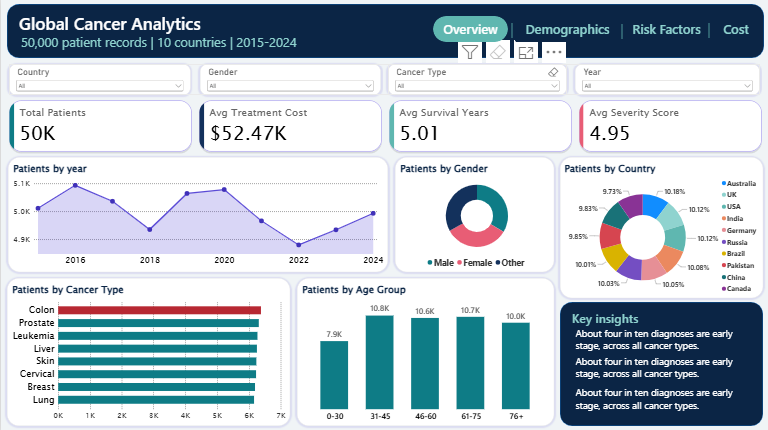

The dashboard page shown, as its layout file describes it:
{"tool":"powerbi","page":{"name":"Overview","canvas":[1920,1080],"ordinal":0},"visuals":[{"type":"slicer","fields":{"Values":["CancerData.Country_Region"]},"box":[20,160,454.4,77.5],"z":0,"group":"g2"},{"type":"cardVisual","fields":{"Data":["_Measures.Total Patients","_Measures.Avg Treatment Cost","_Measures.Avg Survival Years","_Measures.Avg Severity Score"]},"box":[16,245,1893,140],"z":0},{"type":"shape","box":[15,10,1892.5,135],"z":1000,"group":"g1"},{"type":"slicer","fields":{"Values":["CancerData.Gender"]},"box":[496.9,160,451.9,77.5],"z":1000,"group":"g2"},{"type":"areaChart","title":"Patients by year","fields":{"Category":["CancerData.Year"],"Y":["_Measures.Total Patients"]},"box":[17.5,392.5,950,287.5],"z":1000},{"type":"slicer","fields":{"Values":["CancerData.Cancer_Type"]},"box":[968.7,160,446.9,77.5],"z":2000,"group":"g2"},{"type":"donutChart","title":"Patients by Country","fields":{"Category":["CancerData.Country_Region"],"Y":["_Measures.Total Patients"]},"box":[1397.5,392.5,507.5,352.5],"z":2000},{"type":"slicer","fields":{"Values":["CancerData.Year"]},"box":[1435.6,160,461.9,77.5],"z":3000,"group":"g2"},{"type":"clusteredColumnChart","title":"Patients by Age Group","fields":{"Category":["CancerData.Age Group"],"Y":["_Measures.Total Patients"]},"box":[740,695,642.5,370],"z":3000},{"type":"donutChart","title":"Patients by Gender","fields":{"Category":["CancerData.Gender"],"Y":["_Measures.Total Patients"]},"box":[985,392.5,397.5,287.5],"z":4000},{"type":"clusteredBarChart","title":"Patients by Cancer Type","fields":{"Category":["CancerData.Cancer_Type"],"Y":["_Measures.Total Patients"]},"box":[15,695,707.5,370],"z":5000},{"type":"group","id":"g1","title":"Group 1","box":[15,10,1892.5,135],"z":6000},{"type":"group","id":"g2","title":"Group 3","box":[20,160,1877.5,77.5],"z":7000},{"type":"shape","box":[32.6,71.4,723.8,63.8],"z":7001,"group":"g1"},{"type":"actionButton","box":[1285,40,262.5,65],"z":8000},{"type":"actionButton","box":[1080,40,187.5,65],"z":9000},{"type":"actionButton","box":[1565,40,197.5,65],"z":10000},{"type":"actionButton","box":[1777.5,40,120,65],"z":11000},{"type":"shape","box":[1220,57.5,115,37.5],"z":12000},{"type":"shape","box":[1712.5,57.5,115,37.5],"z":13000},{"type":"shape","box":[1495,60,115,37.5],"z":14000},{"type":"shape","box":[1397.5,755,507.5,310],"z":15000},{"type":"shape","box":[1400,812.5,507.5,70],"z":16000},{"type":"shape","box":[1400,882.5,507.5,70],"z":17000},{"type":"shape","box":[1400,952.5,507.5,85],"z":18000}]}

Visuals, with their boxes in screenshot pixels (x1, y1, x2, y2), scaled from the page's 1920x1080 canvas onto the 768x430 screenshot:
slicer - CancerData.Country_Region: (x1=8, y1=64, x2=190, y2=95)
cardVisual - _Measures.Total Patients x _Measures.Avg Treatment Cost: (x1=6, y1=98, x2=764, y2=153)
shape: (x1=6, y1=4, x2=763, y2=58)
slicer - CancerData.Gender: (x1=199, y1=64, x2=380, y2=95)
"Patients by year" areaChart: (x1=7, y1=156, x2=387, y2=271)
slicer - CancerData.Cancer_Type: (x1=387, y1=64, x2=566, y2=95)
"Patients by Country" donutChart: (x1=559, y1=156, x2=762, y2=297)
slicer - CancerData.Year: (x1=574, y1=64, x2=759, y2=95)
"Patients by Age Group" clusteredColumnChart: (x1=296, y1=277, x2=553, y2=424)
"Patients by Gender" donutChart: (x1=394, y1=156, x2=553, y2=271)
"Patients by Cancer Type" clusteredBarChart: (x1=6, y1=277, x2=289, y2=424)
"Group 1" group: (x1=6, y1=4, x2=763, y2=58)
"Group 3" group: (x1=8, y1=64, x2=759, y2=95)
shape: (x1=13, y1=28, x2=303, y2=54)
actionButton: (x1=514, y1=16, x2=619, y2=42)
actionButton: (x1=432, y1=16, x2=507, y2=42)
actionButton: (x1=626, y1=16, x2=705, y2=42)
actionButton: (x1=711, y1=16, x2=759, y2=42)
shape: (x1=488, y1=23, x2=534, y2=38)
shape: (x1=685, y1=23, x2=731, y2=38)
shape: (x1=598, y1=24, x2=644, y2=39)
shape: (x1=559, y1=301, x2=762, y2=424)
shape: (x1=560, y1=323, x2=763, y2=351)
shape: (x1=560, y1=351, x2=763, y2=379)
shape: (x1=560, y1=379, x2=763, y2=413)
